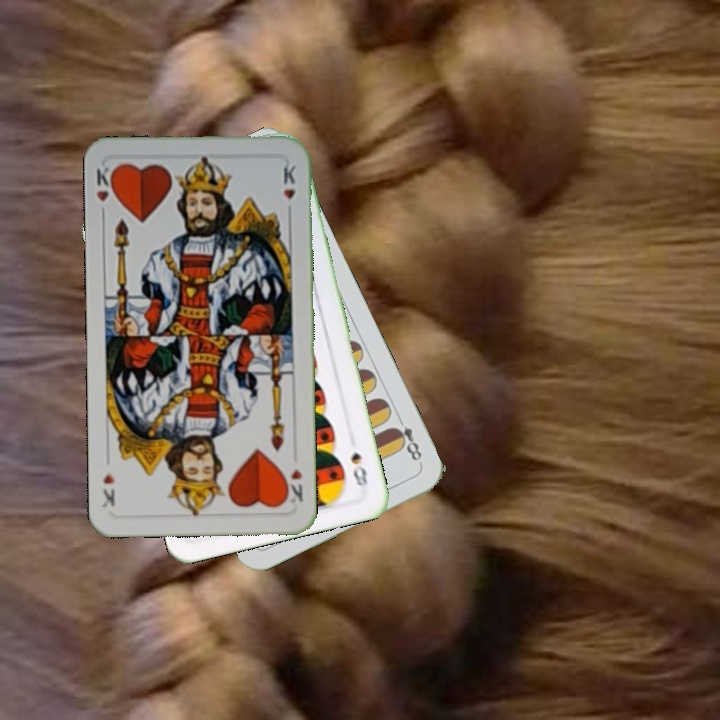E8: (388, 411, 425, 464)
HK: (92, 163, 118, 221), (281, 464, 305, 507)
S8: (347, 447, 370, 489)
